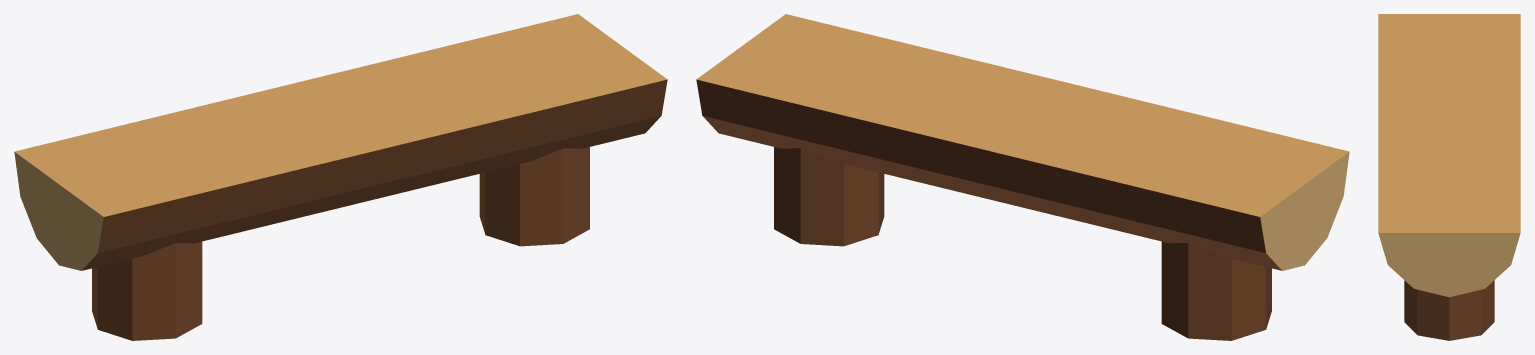
Rendered from log_bench.glb.
3 views of the same model, side by side, from view 1: azimuth 30°, elevation 25°; view 2: azimuth 150°, elevation 25°; view 3: azimuth 270°, elevation 25° (orthographic). The views are drawn at different scales.
Visible parts, largest first — view 1: log_bench; view 2: log_bench; view 3: log_bench.
Boxes of the visible parts, bbox=[...] form: log_bench: bbox=[14, 14, 667, 340]; log_bench: bbox=[696, 14, 1349, 340]; log_bench: bbox=[1378, 14, 1520, 340].
Size of the model in its own units: 1.6 by 0.42 by 0.44.
